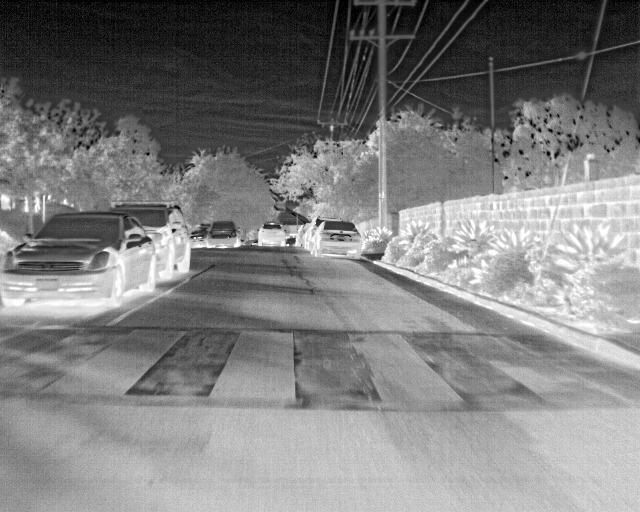car: (0, 210, 156, 309), (111, 203, 193, 282), (307, 221, 362, 259), (208, 221, 239, 249), (257, 222, 288, 246), (301, 221, 320, 249), (189, 228, 209, 249), (294, 223, 306, 246)
